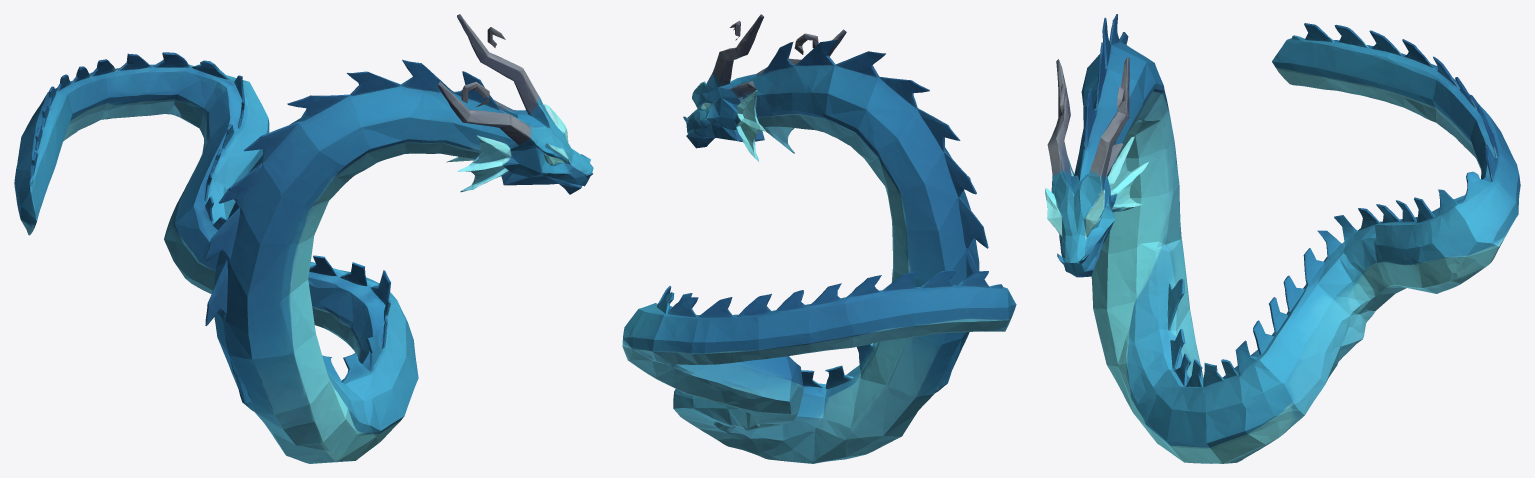
Rendered from dragon.glb.
3 views of the same model, side by side, from view 1: azimuth 30°, elevation 25°; view 2: azimuth 150°, elevation 25°; view 3: azimuth 270°, elevation 25° (orthographic). The views are drawn at different scales.
Parts seen in each view (by area): view 1: geometry_0; view 2: geometry_0; view 3: geometry_0.
Boxes of the visible parts, x1,y1,x2,y2 form: geometry_0: (14, 14, 593, 463); geometry_0: (622, 14, 1016, 463); geometry_0: (1045, 14, 1520, 463).
Size of the model in its own units: 0.8492 by 0.7798 by 0.7706.
Materials: 1 (1 with a texture image).
